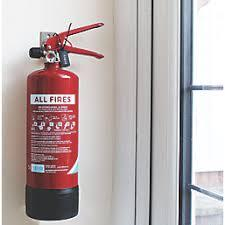wall-mounted: (5, 13, 119, 225)
